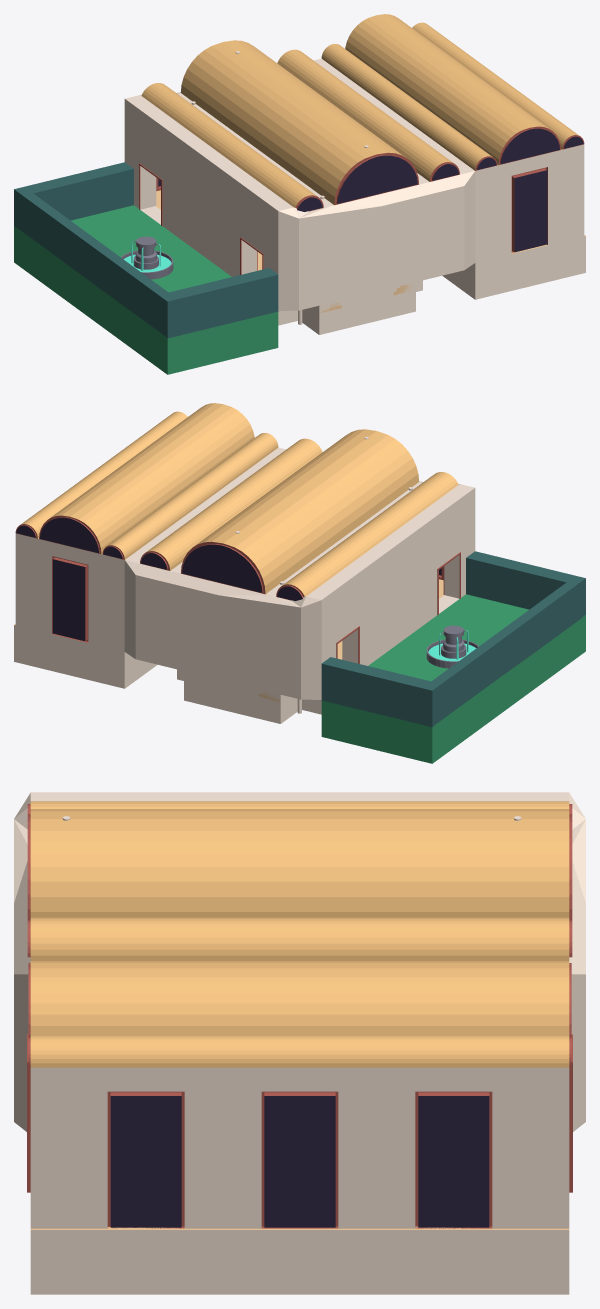
File: map_mk1.fbx
3 views of the same model, one above another, from view 1: azimuth 30°, elevation 25°; view 2: azimuth 150°, elevation 25°; view 3: azimuth 270°, elevation 25° (orthographic). The views are drawn at different scales.
Visible parts, largest first — view 1: sala da ballo base, tetto, tetto.001, siepe, muro1, fontana; view 2: sala da ballo base, tetto, tetto.001, siepe, muro1, fontana; view 3: muro1, tetto, tetto.001, sala da ballo base.
Part boxes in pixels (<box>): sala da ballo base: <box>14,58,585,374</box>; tetto: <box>141,40,459,211</box>; tetto.001: <box>321,14,584,170</box>; siepe: <box>14,162,278,338</box>; muro1: <box>475,144,584,262</box>; fontana: <box>121,236,173,279</box>; sala da ballo base: <box>14,447,585,763</box>; tetto: <box>140,429,458,600</box>; tetto.001: <box>15,403,278,559</box>; siepe: <box>321,551,585,727</box>; muro1: <box>15,533,124,651</box>; fontana: <box>426,625,478,668</box>; muro1: <box>27,1034,572,1228</box>; tetto: <box>27,801,572,960</box>; tetto.001: <box>28,961,571,1067</box>; sala da ballo base: <box>14,792,585,1294</box>.
Size of the model in its own units: 2375 by 959 by 1604.
